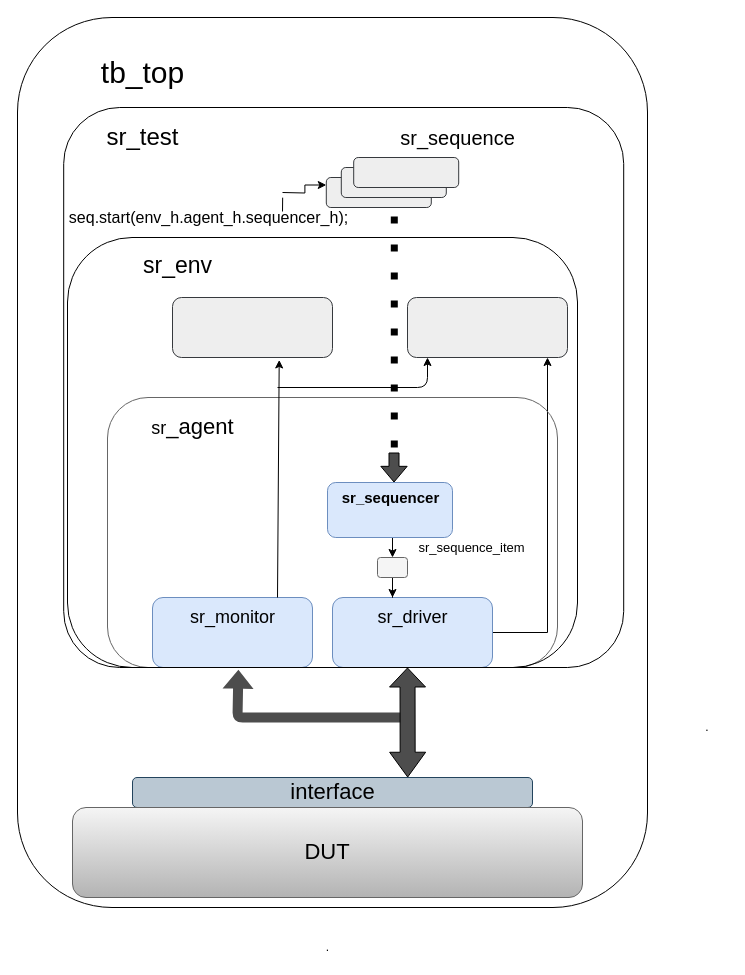
This 745x975 diagram has some shape labels left out. The shapes that lost their labels are listed below. From the top down, each one's box as (x1, y1, x2, y2) in pixels, then its label:
(172, 296, 332, 358): sr_coverage
(406, 296, 568, 358): sr_scoreboard
